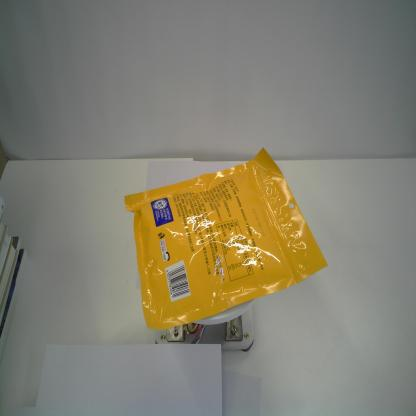Dried Fruit: (121, 147, 328, 330)
